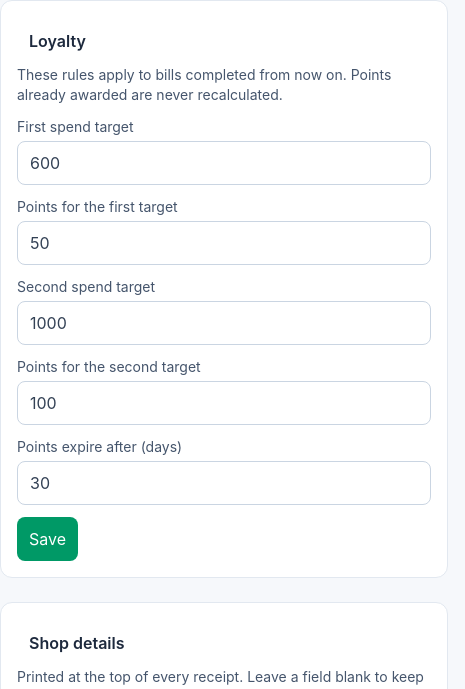
Test case: the loyalty settings screen › clears a stale policy-refusal banner on the next, client-rejected save
This screenshot has width=465, height=689.
Expected: the field with test id "settings-points_threshold_1" is shown, [17,141,431,185]
Click the button with test id "settings-save": x=48, y=539 [17,517,78,561]
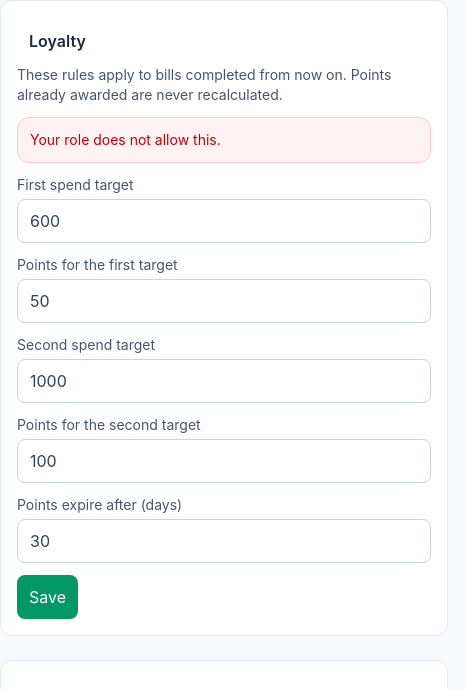
Expected: the text "Your role does not allow this." is shown, [30,131,221,148]
Replace the text in the field with test id "settings-points_reward_1" with "2.5": x=224, y=301 [17,279,431,323]
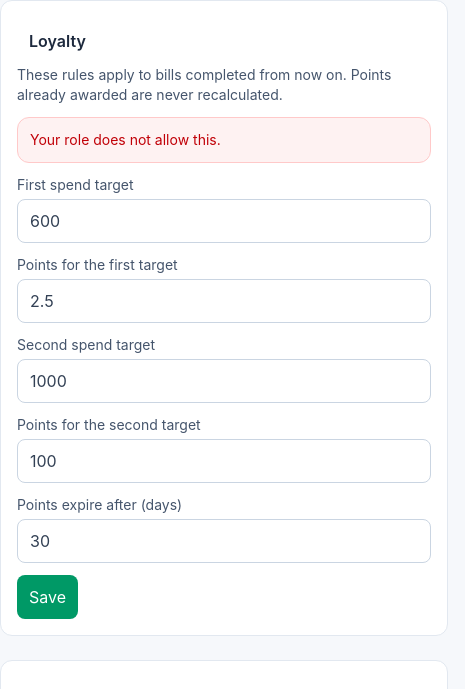
Click the button with test id "settings-save": x=48, y=597 [17,575,78,619]
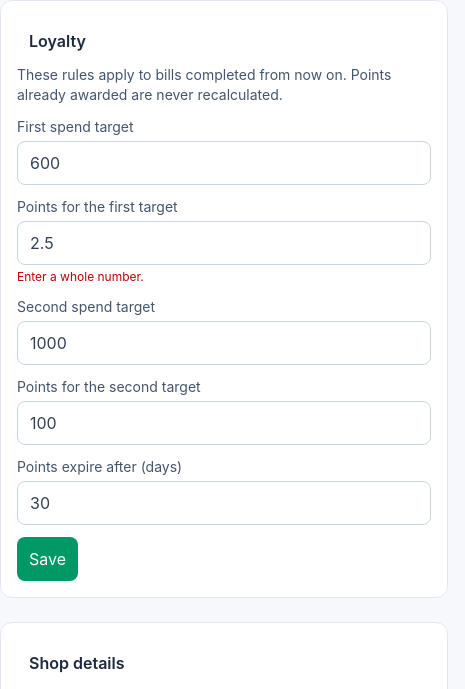
Expected: the text with test id "settings-problem" is gone
Expected: the text "Enter a whole number." is shown, [17,269,144,284]
